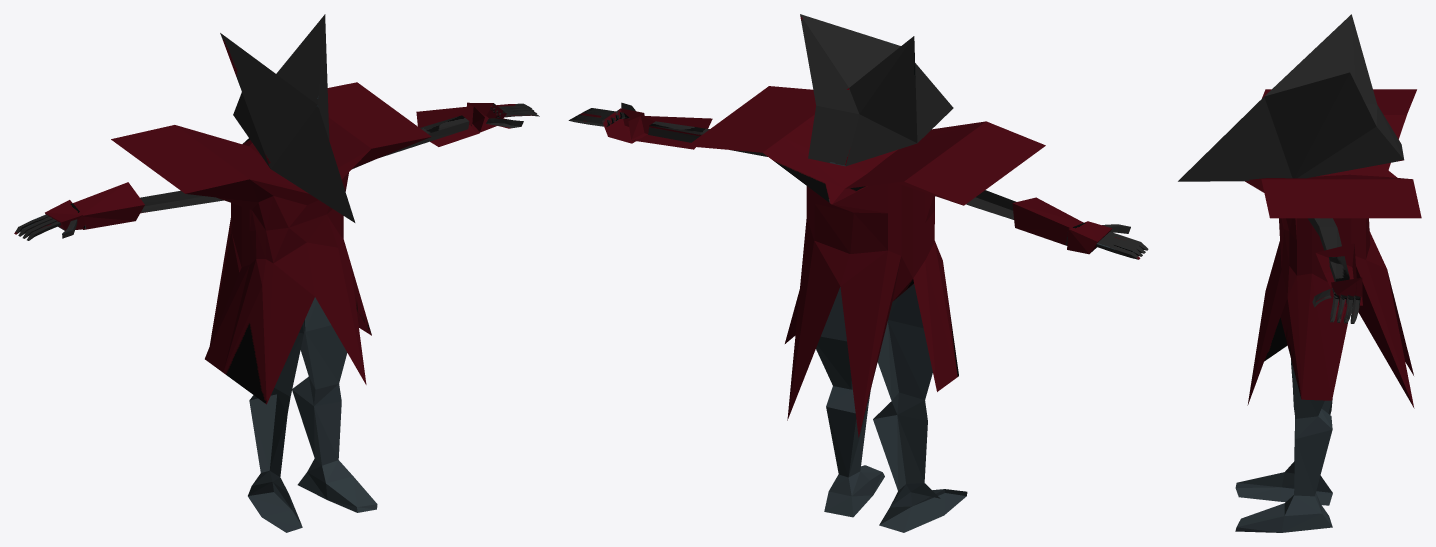
The model's file is player-remake.obj.
The picture shows the model from 3 angles, left to right: view 1: azimuth 30°, elevation 25°; view 2: azimuth 150°, elevation 25°; view 3: azimuth 270°, elevation 25°; orthographic projection. The views are drawn at different scales.
Visible parts, largest first — view 1: player; view 2: player; view 3: player.
Part boxes in pixels (x1,y1,x2,y2): player: (14,14,539,532); player: (568,14,1148,532); player: (1178,14,1421,532).
Bounding box in the file's own units: 8.24 × 7.03 × 3.31.
